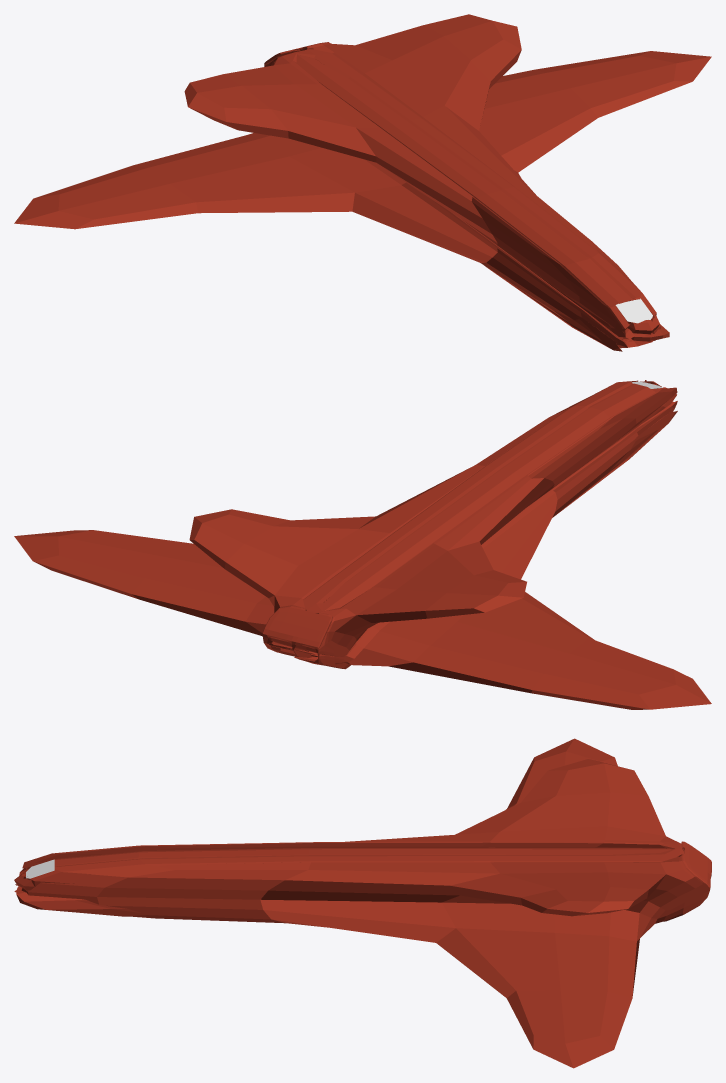
Rendered from LA NAE.fbx.
3 renders of one model, top to bottom at view 1: azimuth 30°, elevation 25°; view 2: azimuth 150°, elevation 25°; view 3: azimuth 270°, elevation 25°, orthographic. The views are drawn at different scales.
Parts seen in each view (by area): view 1: Cube, Plane; view 2: Cube; view 3: Cube.
Boxes of the visible parts, <box> form: Cube: <box>14,14,711,351</box>; Plane: <box>615,298,652,323</box>; Cube: <box>14,380,711,709</box>; Cube: <box>14,738,711,1068</box>.
Size of the model in its own units: 19156 by 2198 by 17269.
